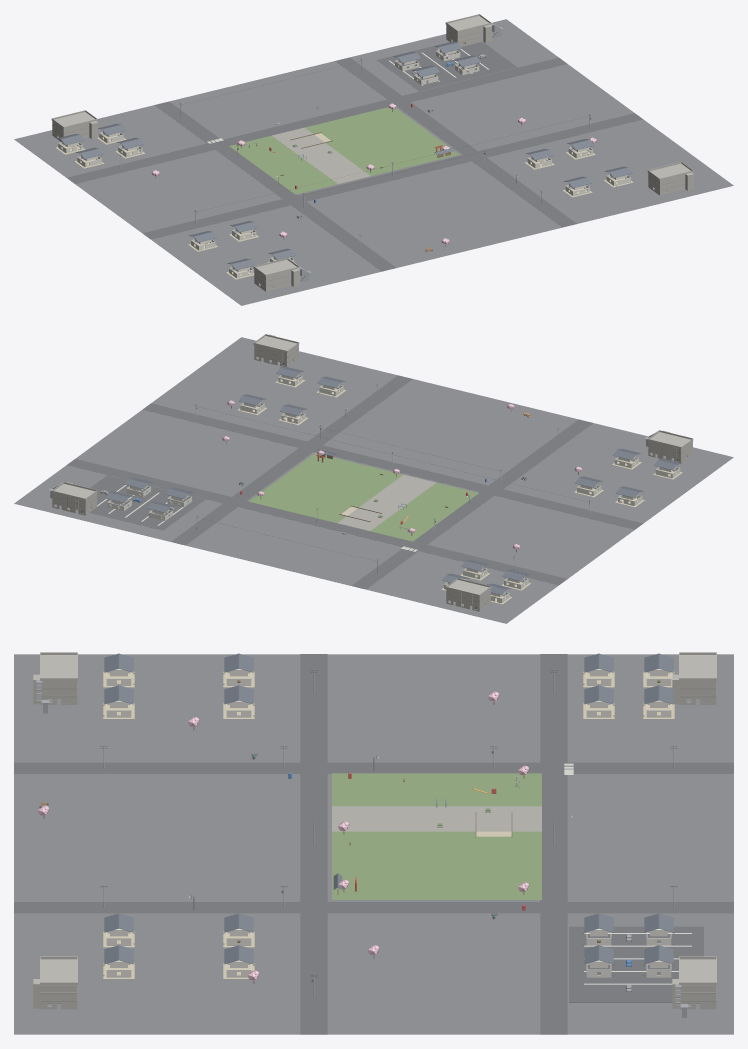
The model's file is zone_4.glb.
3 renders of one model, top to bottom at view 1: azimuth 30°, elevation 25°; view 2: azimuth 150°, elevation 25°; view 3: azimuth 270°, elevation 25°, orthographic. The views are drawn at different scales.
Visible parts, largest first — view 1: zone_akitsu_z4; view 2: zone_akitsu_z4; view 3: zone_akitsu_z4.
Boxes of the visible parts, box(x1,y1,x2,y2) form: zone_akitsu_z4: box(14, 14, 733, 305); zone_akitsu_z4: box(14, 334, 733, 623); zone_akitsu_z4: box(14, 652, 733, 1034).
Size of the model in its own units: 300 by 10.23 by 240.
